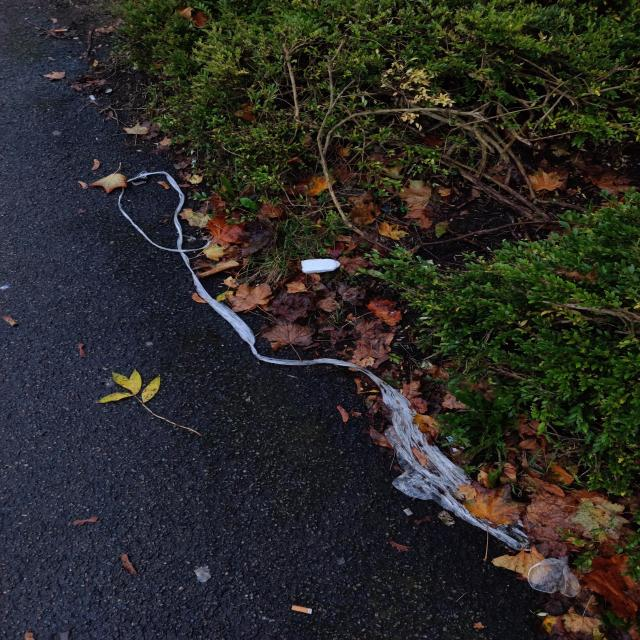litter: (118, 171, 580, 596), (301, 259, 339, 273), (291, 605, 312, 614), (403, 508, 412, 515), (103, 87, 113, 93), (89, 95, 95, 100)
